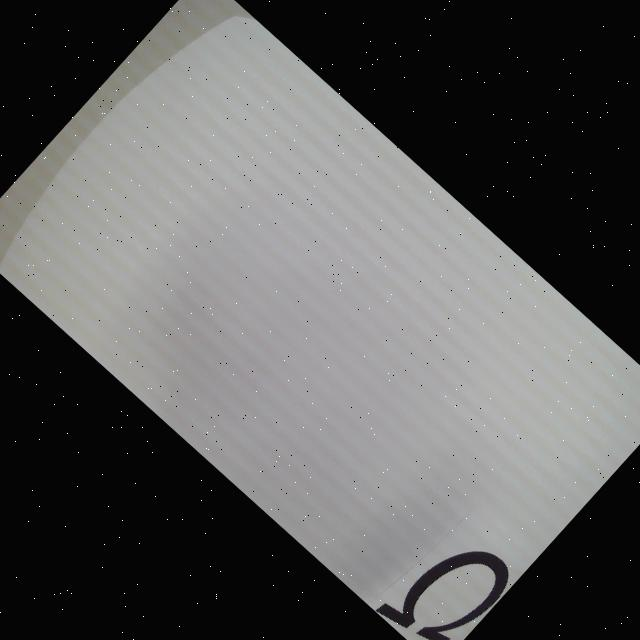OMEGA: (374, 519, 519, 640)
